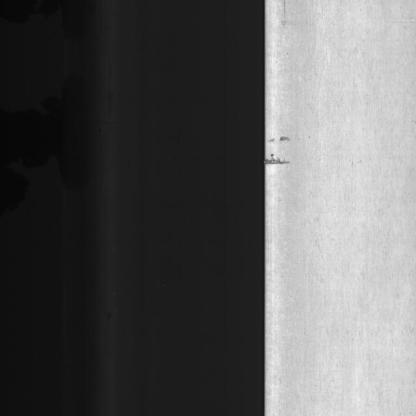crease: (264, 123, 294, 173)
